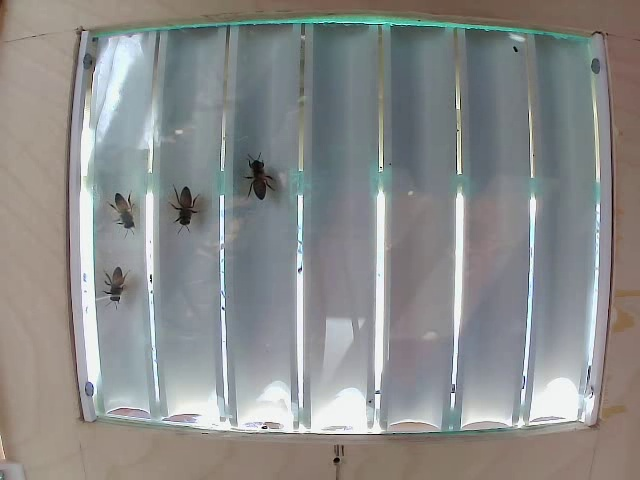bee: (236, 153, 273, 202), (104, 188, 133, 231), (164, 189, 196, 227), (104, 263, 139, 291)
